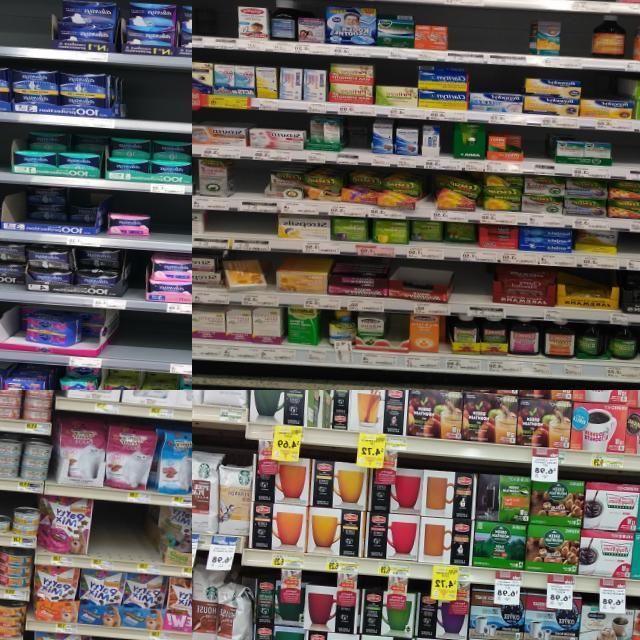empty: (120, 309, 192, 375), (126, 69, 192, 138), (92, 502, 147, 572), (0, 0, 50, 58), (148, 193, 192, 252), (486, 8, 529, 66), (446, 6, 488, 63), (456, 264, 491, 316), (560, 12, 591, 68), (230, 212, 275, 250), (487, 0, 617, 12), (236, 160, 264, 211), (612, 132, 640, 182), (522, 128, 550, 174), (211, 0, 237, 49), (203, 210, 230, 249), (192, 0, 212, 47), (618, 231, 640, 271), (438, 120, 452, 168)
